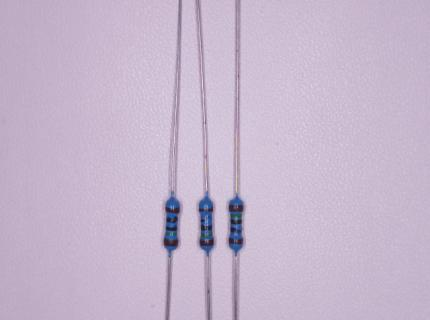Black band: (230, 227, 242, 233), (201, 225, 213, 231), (166, 217, 178, 223), (231, 219, 242, 224), (166, 226, 177, 231), (200, 218, 212, 222)
Brown band: (164, 238, 178, 246), (229, 205, 244, 212), (165, 207, 180, 214), (199, 240, 214, 246), (229, 238, 243, 244), (199, 208, 213, 212)
Green band: (200, 233, 213, 237), (165, 232, 177, 236), (230, 214, 242, 218)
